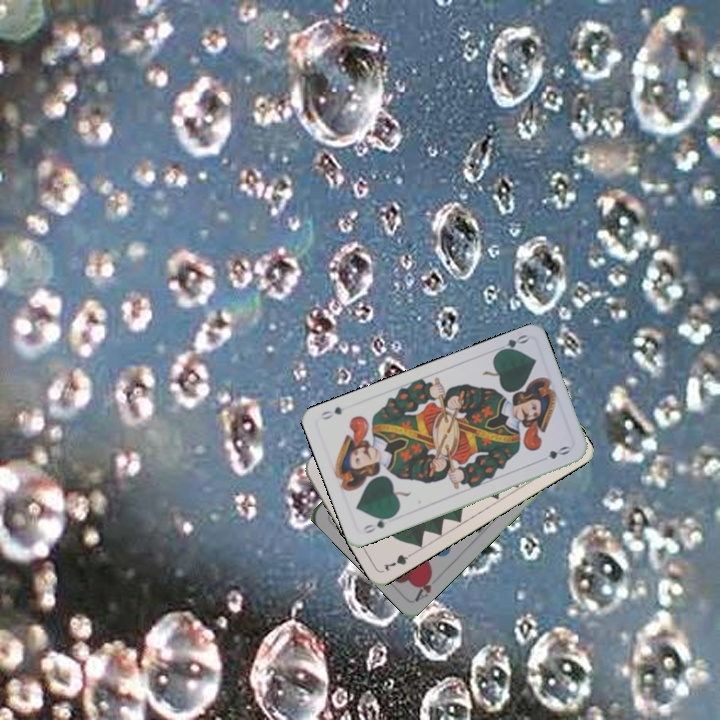G7: (379, 547, 418, 574)
GO: (493, 330, 531, 356), (359, 511, 396, 536)
HA: (411, 568, 436, 604)
